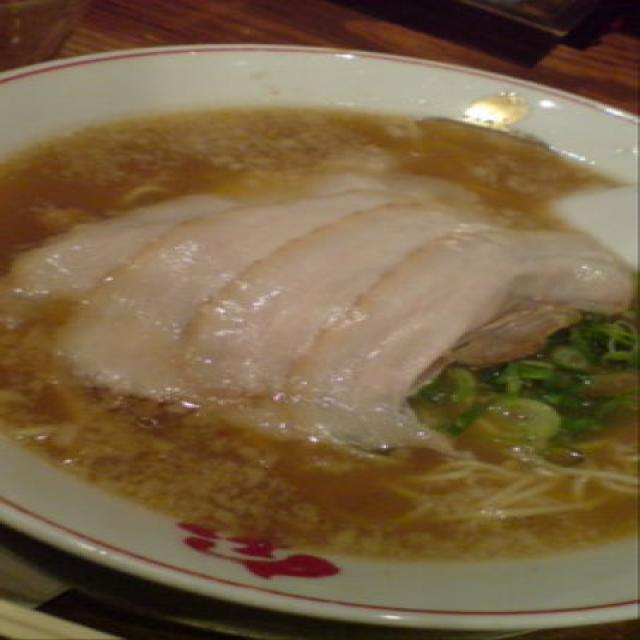面条主食: (0, 45, 640, 640)
